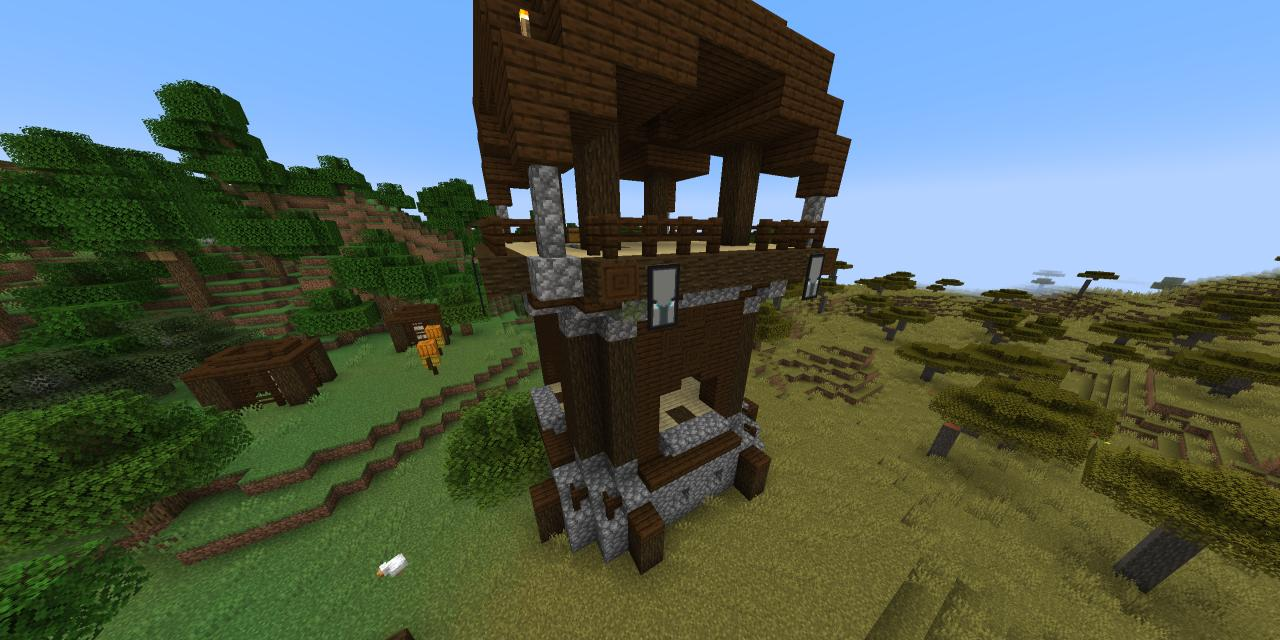pillager outpost: (456, 0, 863, 580)
